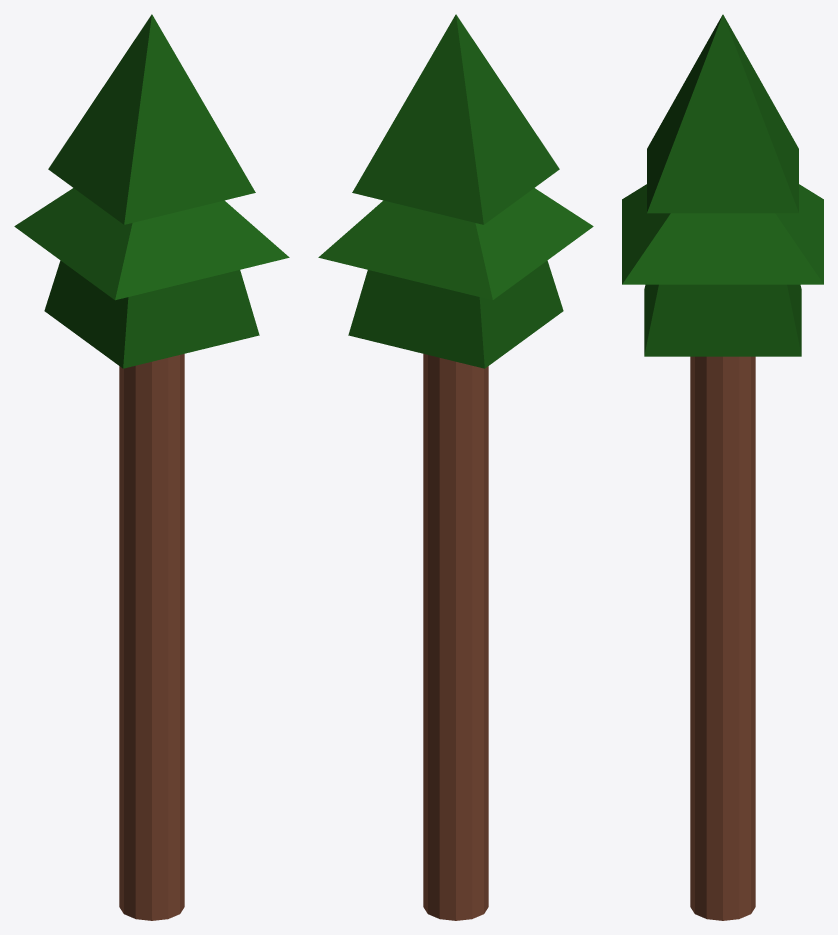
Rendered from Tree_15_autumn_mat.fbx.
3 renders of one model, left to right at view 1: azimuth 30°, elevation 25°; view 2: azimuth 150°, elevation 25°; view 3: azimuth 270°, elevation 25°, orthographic.
Parts seen in each view (by area): view 1: Tree_15_autumn_mat; view 2: Tree_15_autumn_mat; view 3: Tree_15_autumn_mat.
Boxes of the visible parts, x1,y1,x2,y2 form: Tree_15_autumn_mat: [14, 14, 289, 920]; Tree_15_autumn_mat: [318, 14, 593, 920]; Tree_15_autumn_mat: [622, 14, 823, 920].
Bounding box in the file's own units: 2.75 × 13.42 × 2.75.
